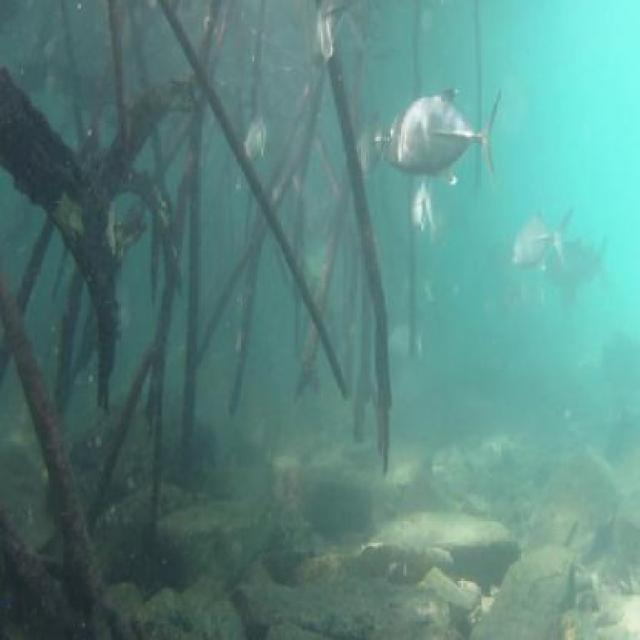Caranx_sexfasciatus_juvenile: (385, 80, 500, 186), (546, 228, 611, 292), (509, 203, 565, 274), (378, 317, 431, 377), (302, 3, 348, 71), (403, 171, 440, 254), (351, 108, 387, 187), (236, 106, 270, 176)
